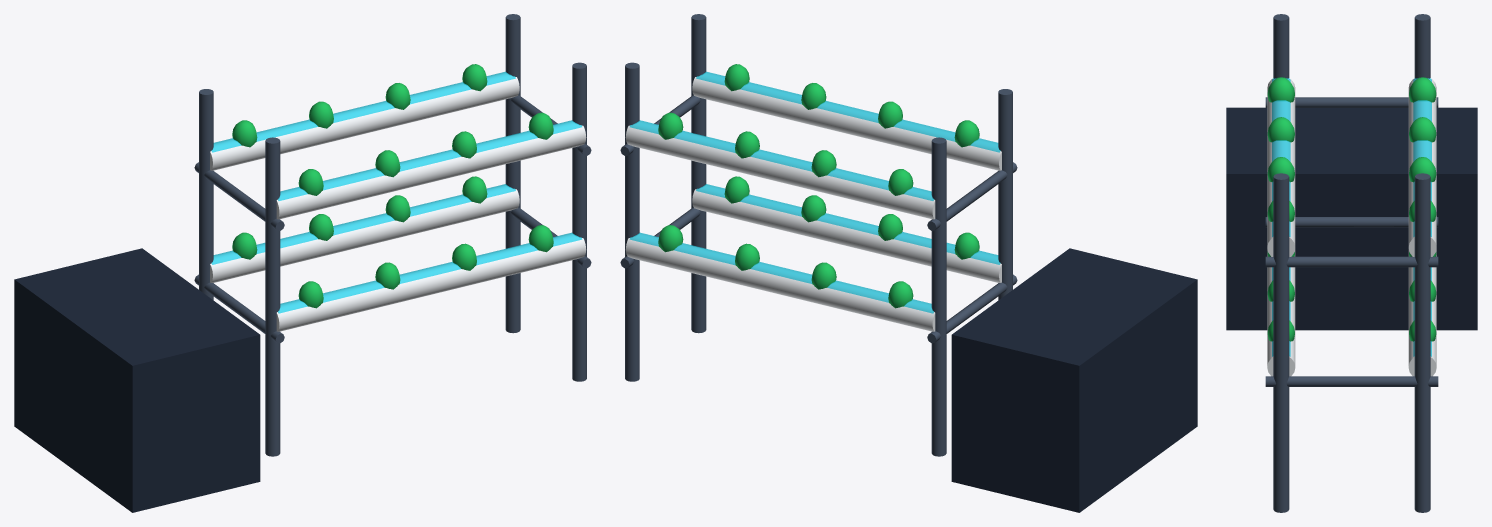
The model's file is hidroponia-compact.glb.
3 renders of one model, left to right at view 1: azimuth 30°, elevation 25°; view 2: azimuth 150°, elevation 25°; view 3: azimuth 270°, elevation 25°, orthographic. The views are drawn at different scales.
Bounding box in the file's own units: 1.88 × 1.17 × 0.8.
